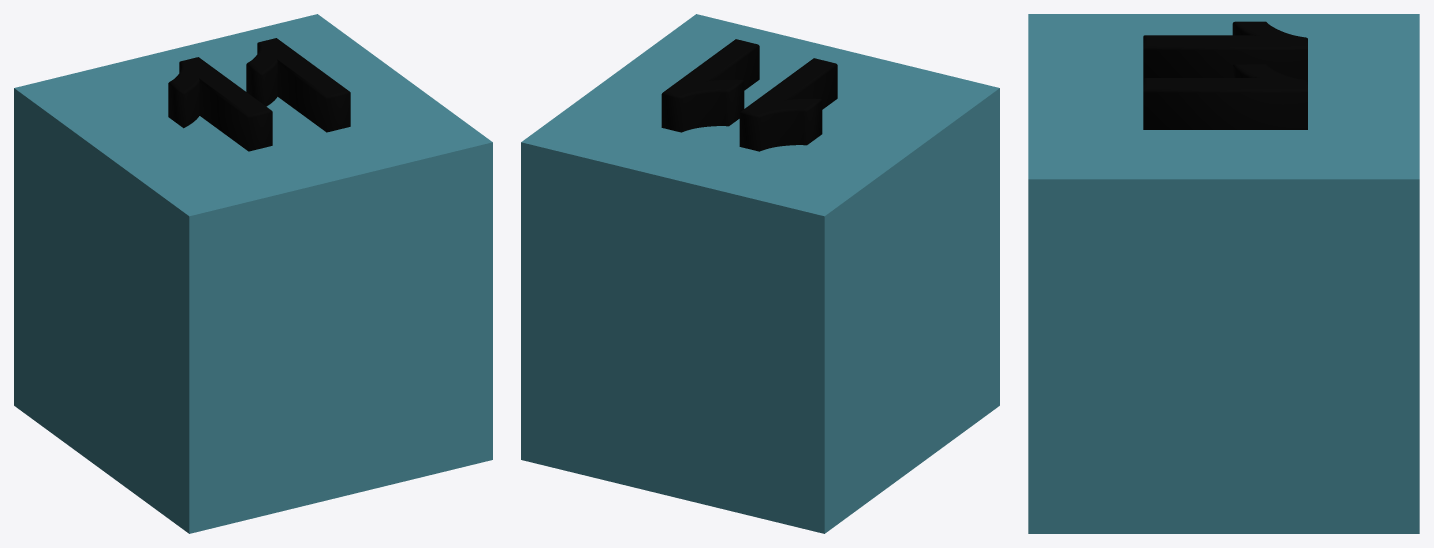
Rendered from level11.fbx.
3 renders of one model, left to right at view 1: azimuth 30°, elevation 25°; view 2: azimuth 150°, elevation 25°; view 3: azimuth 270°, elevation 25°, orthographic. The views are drawn at different scales.
Parts seen in each view (by area): view 1: Text; view 2: Text; view 3: Text.
Part boxes in pixels (left/top/right/bottom): Text: left=14, top=14, right=492, bottom=533; Text: left=521, top=14, right=999, bottom=533; Text: left=1028, top=14, right=1419, bottom=533.
Bounding box in the file's own units: 200 × 223 × 200.
